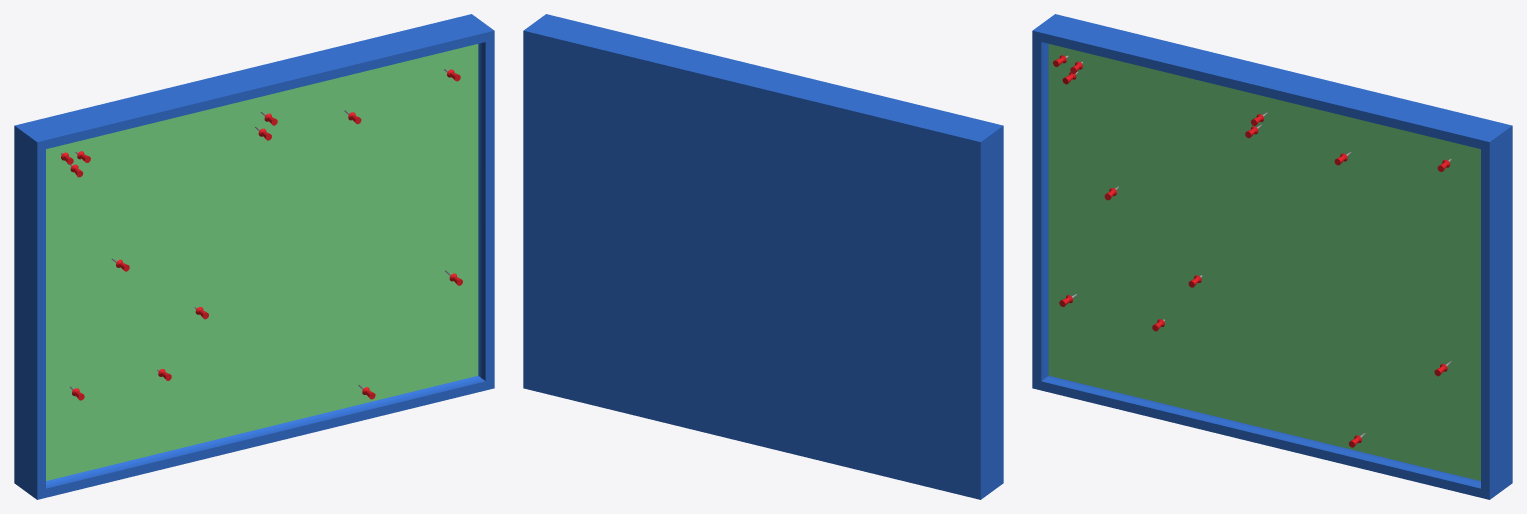
Rendered from Tabla_Tareas.fbx.
3 views of the same model, side by side, from view 1: azimuth 30°, elevation 25°; view 2: azimuth 150°, elevation 25°; view 3: azimuth 330°, elevation 25° (orthographic).
Parts seen in each view (by area): view 1: Tabla_Tareas; view 2: Tabla_Tareas; view 3: Tabla_Tareas.
Boxes of the visible parts, left/top/right/bottom form: Tabla_Tareas: left=14, top=14, right=494, bottom=499; Tabla_Tareas: left=523, top=14, right=1003, bottom=499; Tabla_Tareas: left=1032, top=14, right=1512, bottom=499.
Bounding box in the file's own units: 108 × 80.64 × 12.92.
